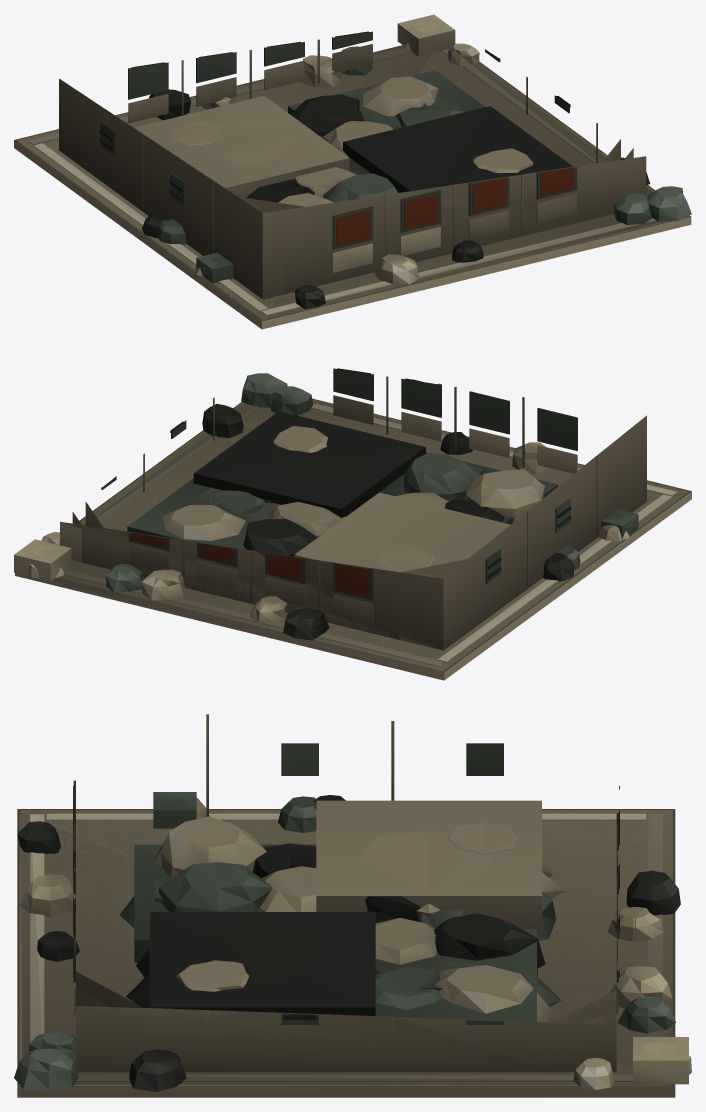
File: neutral_archive_building_heavily_damaged.glb
3 renders of one model, top to bottom at view 1: azimuth 30°, elevation 25°; view 2: azimuth 150°, elevation 25°; view 3: azimuth 270°, elevation 25°, orthographic. The views are drawn at different scales.
Parts seen in each view (by area): view 1: body (×3); view 2: body (×3); view 3: body (×3).
Part boxes in pixels (x1,y1,x2,y2): body (×3): (14, 14, 691, 329); body (×3): (14, 368, 691, 680); body (×3): (14, 714, 691, 1097).
Bounding box in the file's own units: 11.43 × 2.36 × 11.54.
